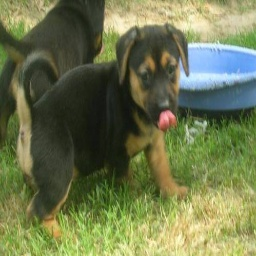dog: (13, 0, 188, 236)
